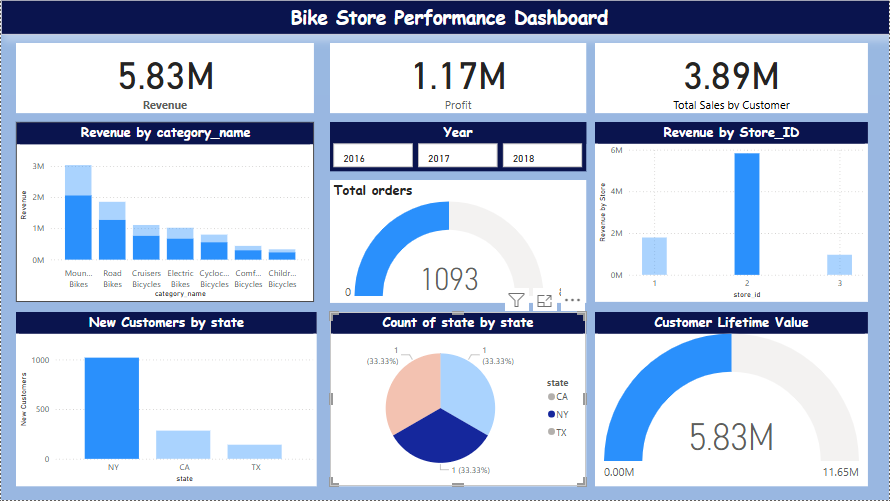

The dashboard page shown, as its layout file describes it:
{"tool":"powerbi","page":{"name":"Page 2","canvas":[1280,720],"ordinal":1},"visuals":[{"type":"textbox","box":[0,0,1280.2,50.4],"z":0},{"type":"card","title":"Profit","fields":{"Values":["sales order_items.Profit"]},"box":[473.8,61.9,368.6,100.8],"z":1000},{"type":"card","title":"Revenue","fields":{"Values":["sales order_items.Revenue"]},"box":[21.6,61.9,429.1,100.8],"z":2000},{"type":"card","title":"Total Sales","fields":{"Values":["sales customers.Total Sales by Customer"]},"box":[855.4,61.9,393.1,100.8],"z":3000},{"type":"lineStackedColumnComboChart","fields":{"Category":["sales customers.state"],"Y":["sales orders.New Customers"]},"box":[21.6,449.3,433.4,250.6],"z":4000},{"type":"pieChart","fields":{"Y":["Count(sales customers.state)"],"Category":["sales customers.state"]},"box":[473.8,449.3,368.6,250.6],"z":5000},{"type":"advancedSlicerVisual","fields":{"Values":["sales orders.order_date.Variation.Date Hierarchy.Year"]},"box":[473.8,175.7,368.6,70.6],"z":6000},{"type":"lineStackedColumnComboChart","fields":{"Category":["production categories.category_name"],"Y":["sales order_items.Revenue"]},"box":[21.6,175.7,429.1,259.2],"z":7000},{"type":"ribbonChart","title":"Revenue by Store_ID","fields":{"Category":["sales staffs.store_id"],"Y":["sales order_items.Revenue by Store"]},"box":[855.4,175.7,393.1,259.2],"z":8000},{"type":"gauge","fields":{"Y":["sales orders.Total orders"]},"box":[473.8,259.2,368.6,177.1],"z":9000},{"type":"gauge","title":"Customer Lifetime Value","fields":{"Y":["sales order_items.Total Sales"]},"box":[855.4,449.3,393.1,250.6],"z":10000}]}

Visuals, with their boxes in screenshot pixels (x1, y1, x2, y2), scaled from the page's 1280x720 canvas onto the 890x501 screenshot:
textbox: detection(0, 0, 889, 35)
"Profit" card: detection(329, 43, 586, 113)
"Revenue" card: detection(15, 43, 313, 113)
"Total Sales" card: detection(595, 43, 868, 113)
lineStackedColumnComboChart - sales customers.state x sales orders.New Customers: detection(15, 313, 316, 487)
pieChart - Count(sales customers.state) x sales customers.state: detection(329, 313, 586, 487)
advancedSlicerVisual - sales orders.order_date.Variation.Date Hierarchy.Year: detection(329, 122, 586, 171)
lineStackedColumnComboChart - production categories.category_name x sales order_items.Revenue: detection(15, 122, 313, 303)
"Revenue by Store_ID" ribbonChart: detection(595, 122, 868, 303)
gauge - sales orders.Total orders: detection(329, 180, 586, 304)
"Customer Lifetime Value" gauge: detection(595, 313, 868, 487)
